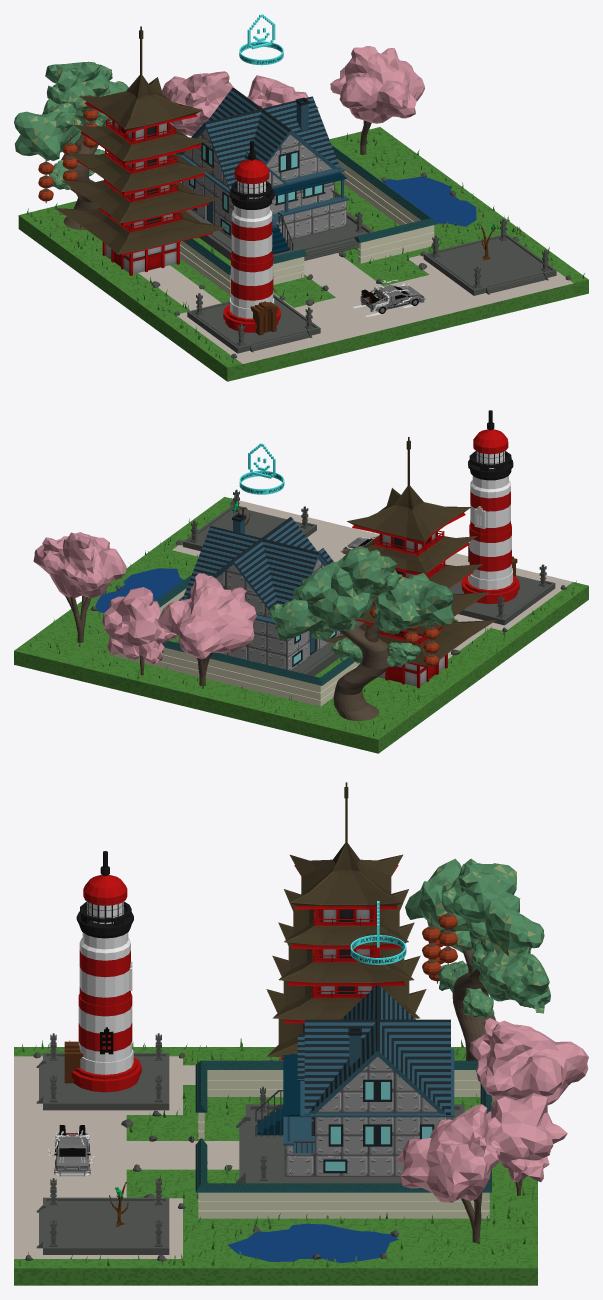
3 views of the same model, one above another, from view 1: azimuth 30°, elevation 25°; view 2: azimuth 150°, elevation 25°; view 3: azimuth 270°, elevation 25° (orthographic). The views are drawn at different scales.
Visible parts, largest first — view 1: Cube.005, Cube.078, OBJRANDOM_LIGHTHOUSE, VEHICLES_DELOREAN, TYPE_PREMIUM; view 2: Cube.005, Cube.078, OBJRANDOM_LIGHTHOUSE, TYPE_PREMIUM; view 3: Cube.005, Cube.078, OBJRANDOM_LIGHTHOUSE, VEHICLES_DELOREAN, TYPE_PREMIUM.
Part boxes in pixels (x1,y1,x2,y2): Cube.005: (14, 26, 588, 381); Cube.078: (176, 87, 349, 254); OBJRANDOM_LIGHTHOUSE: (223, 140, 280, 335); VEHICLES_DELOREAN: (353, 280, 425, 316); TYPE_PREMIUM: (239, 14, 283, 65); Cube.005: (14, 437, 588, 753); Cube.078: (179, 513, 341, 670); OBJRANDOM_LIGHTHOUSE: (461, 410, 519, 603); TYPE_PREMIUM: (239, 443, 284, 494); Cube.005: (14, 782, 588, 1285); Cube.078: (255, 985, 454, 1176); OBJRANDOM_LIGHTHOUSE: (64, 851, 141, 1092); VEHICLES_DELOREAN: (47, 1125, 94, 1176); TYPE_PREMIUM: (350, 901, 406, 964).
Size of the model in its own units: 4528 by 2842 by 4389.
Materials: 49 (8 with a texture image).
